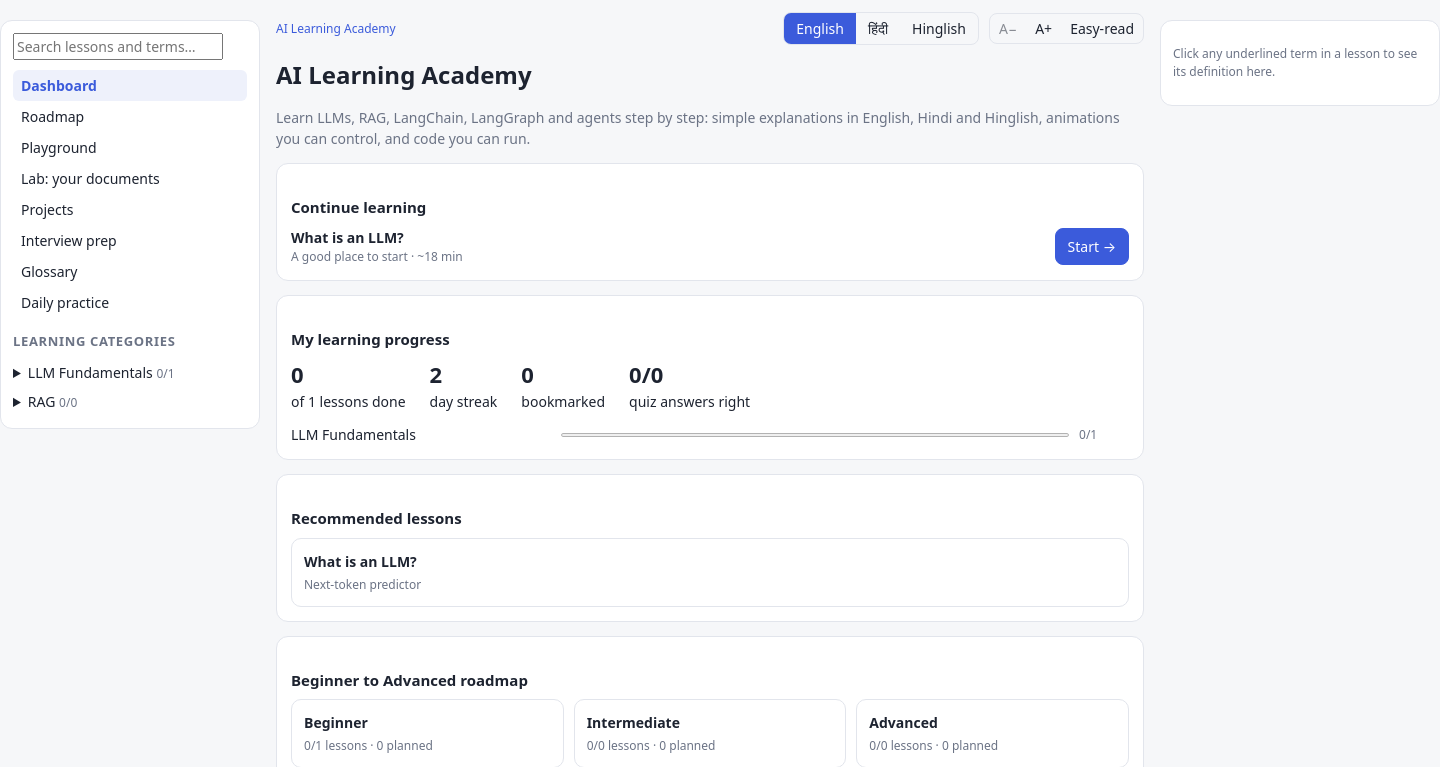
Test: Academy › Simple mode (the default for new learners): one line summary, five small steps, deeper material hidden, progress saved per step
Click the button "Start →": x=1092, y=246 [1055,228,1129,264]
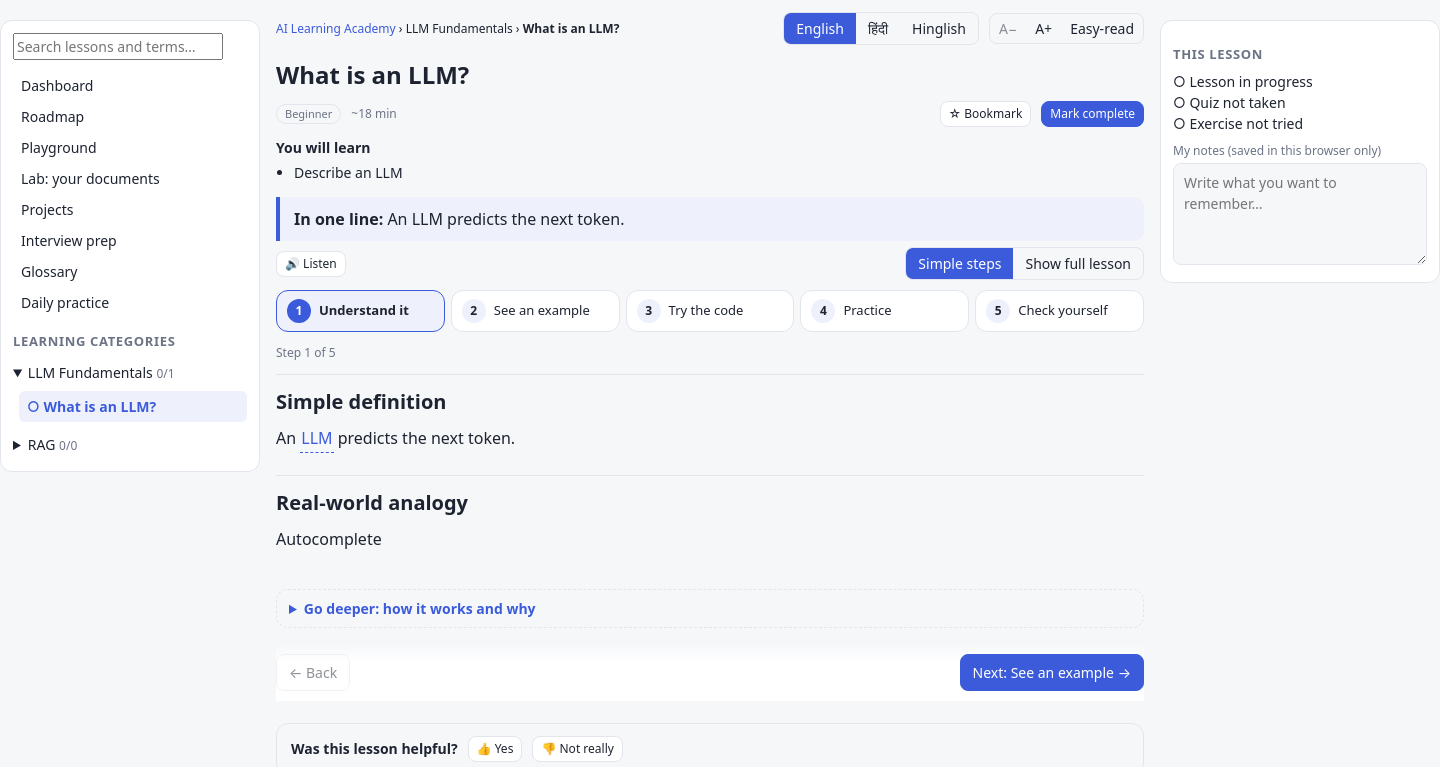
Now the heading "What is an LLM?" is shown, box [276,58,469,91]
Now the element labelled "In one line" shows "An LLM predicts the next token.", box [387,208,625,230]
Now the heading "Real-world analogy" is shown, box [276,489,468,516]
Click the button "Next: See an example →": x=1052, y=672 [960,654,1144,691]
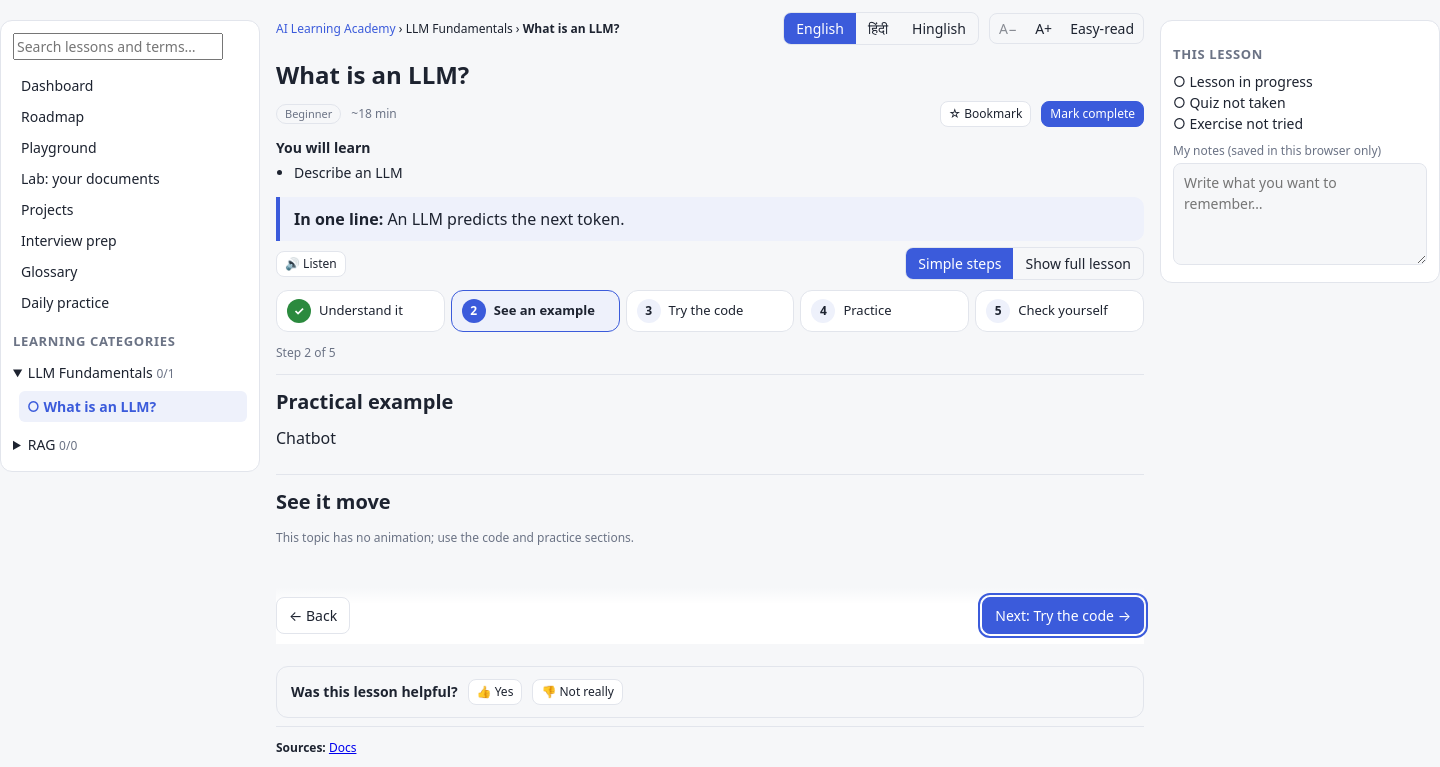
Now the heading "Practical example" is shown, box [276,388,453,415]
Now the heading "Real-world analogy" is gone
Click the button "← Back": x=313, y=615 [276,597,350,634]
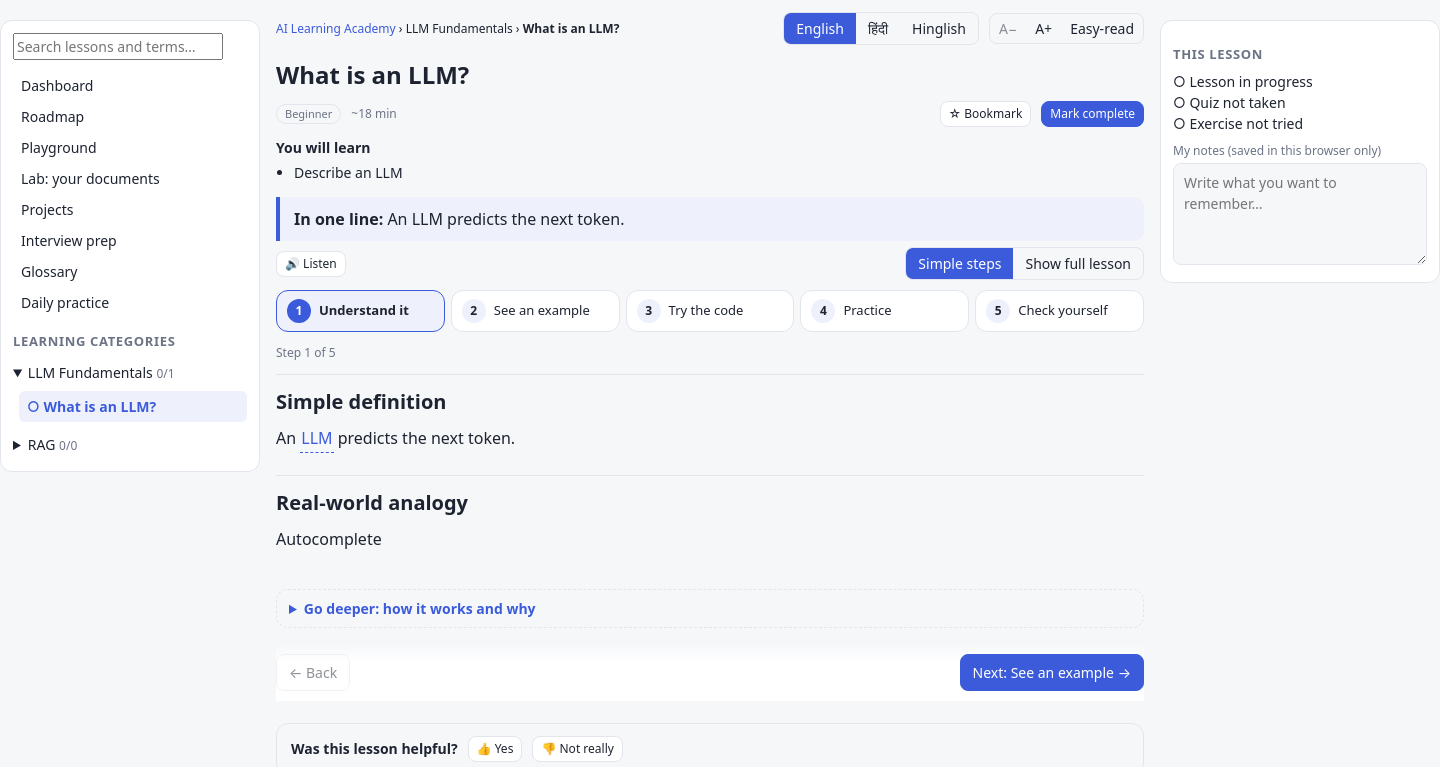
Now the heading "Real-world analogy" is shown, box [276,489,468,516]
